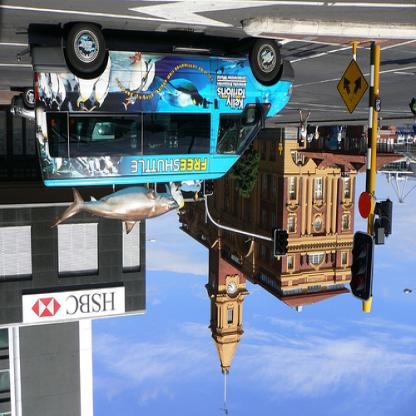car: (32, 22, 296, 190)
person: (297, 109, 313, 145)
